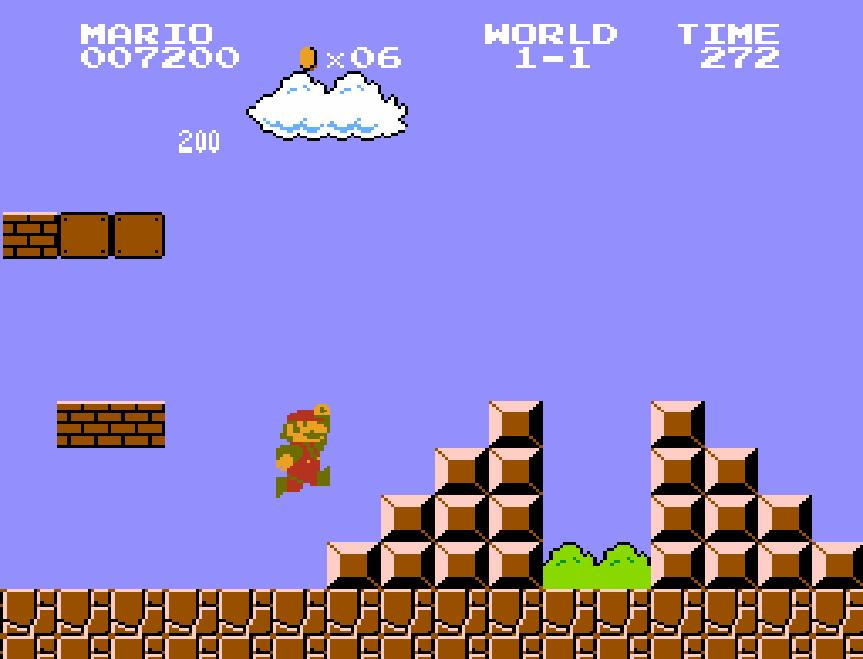big_mario: (274, 402, 332, 500)
